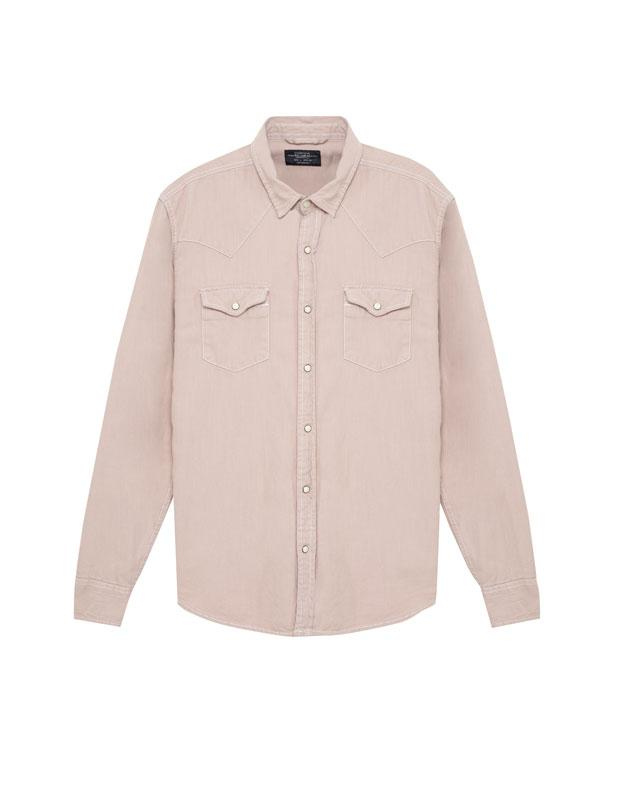teeshirt: (51, 106, 561, 642)
